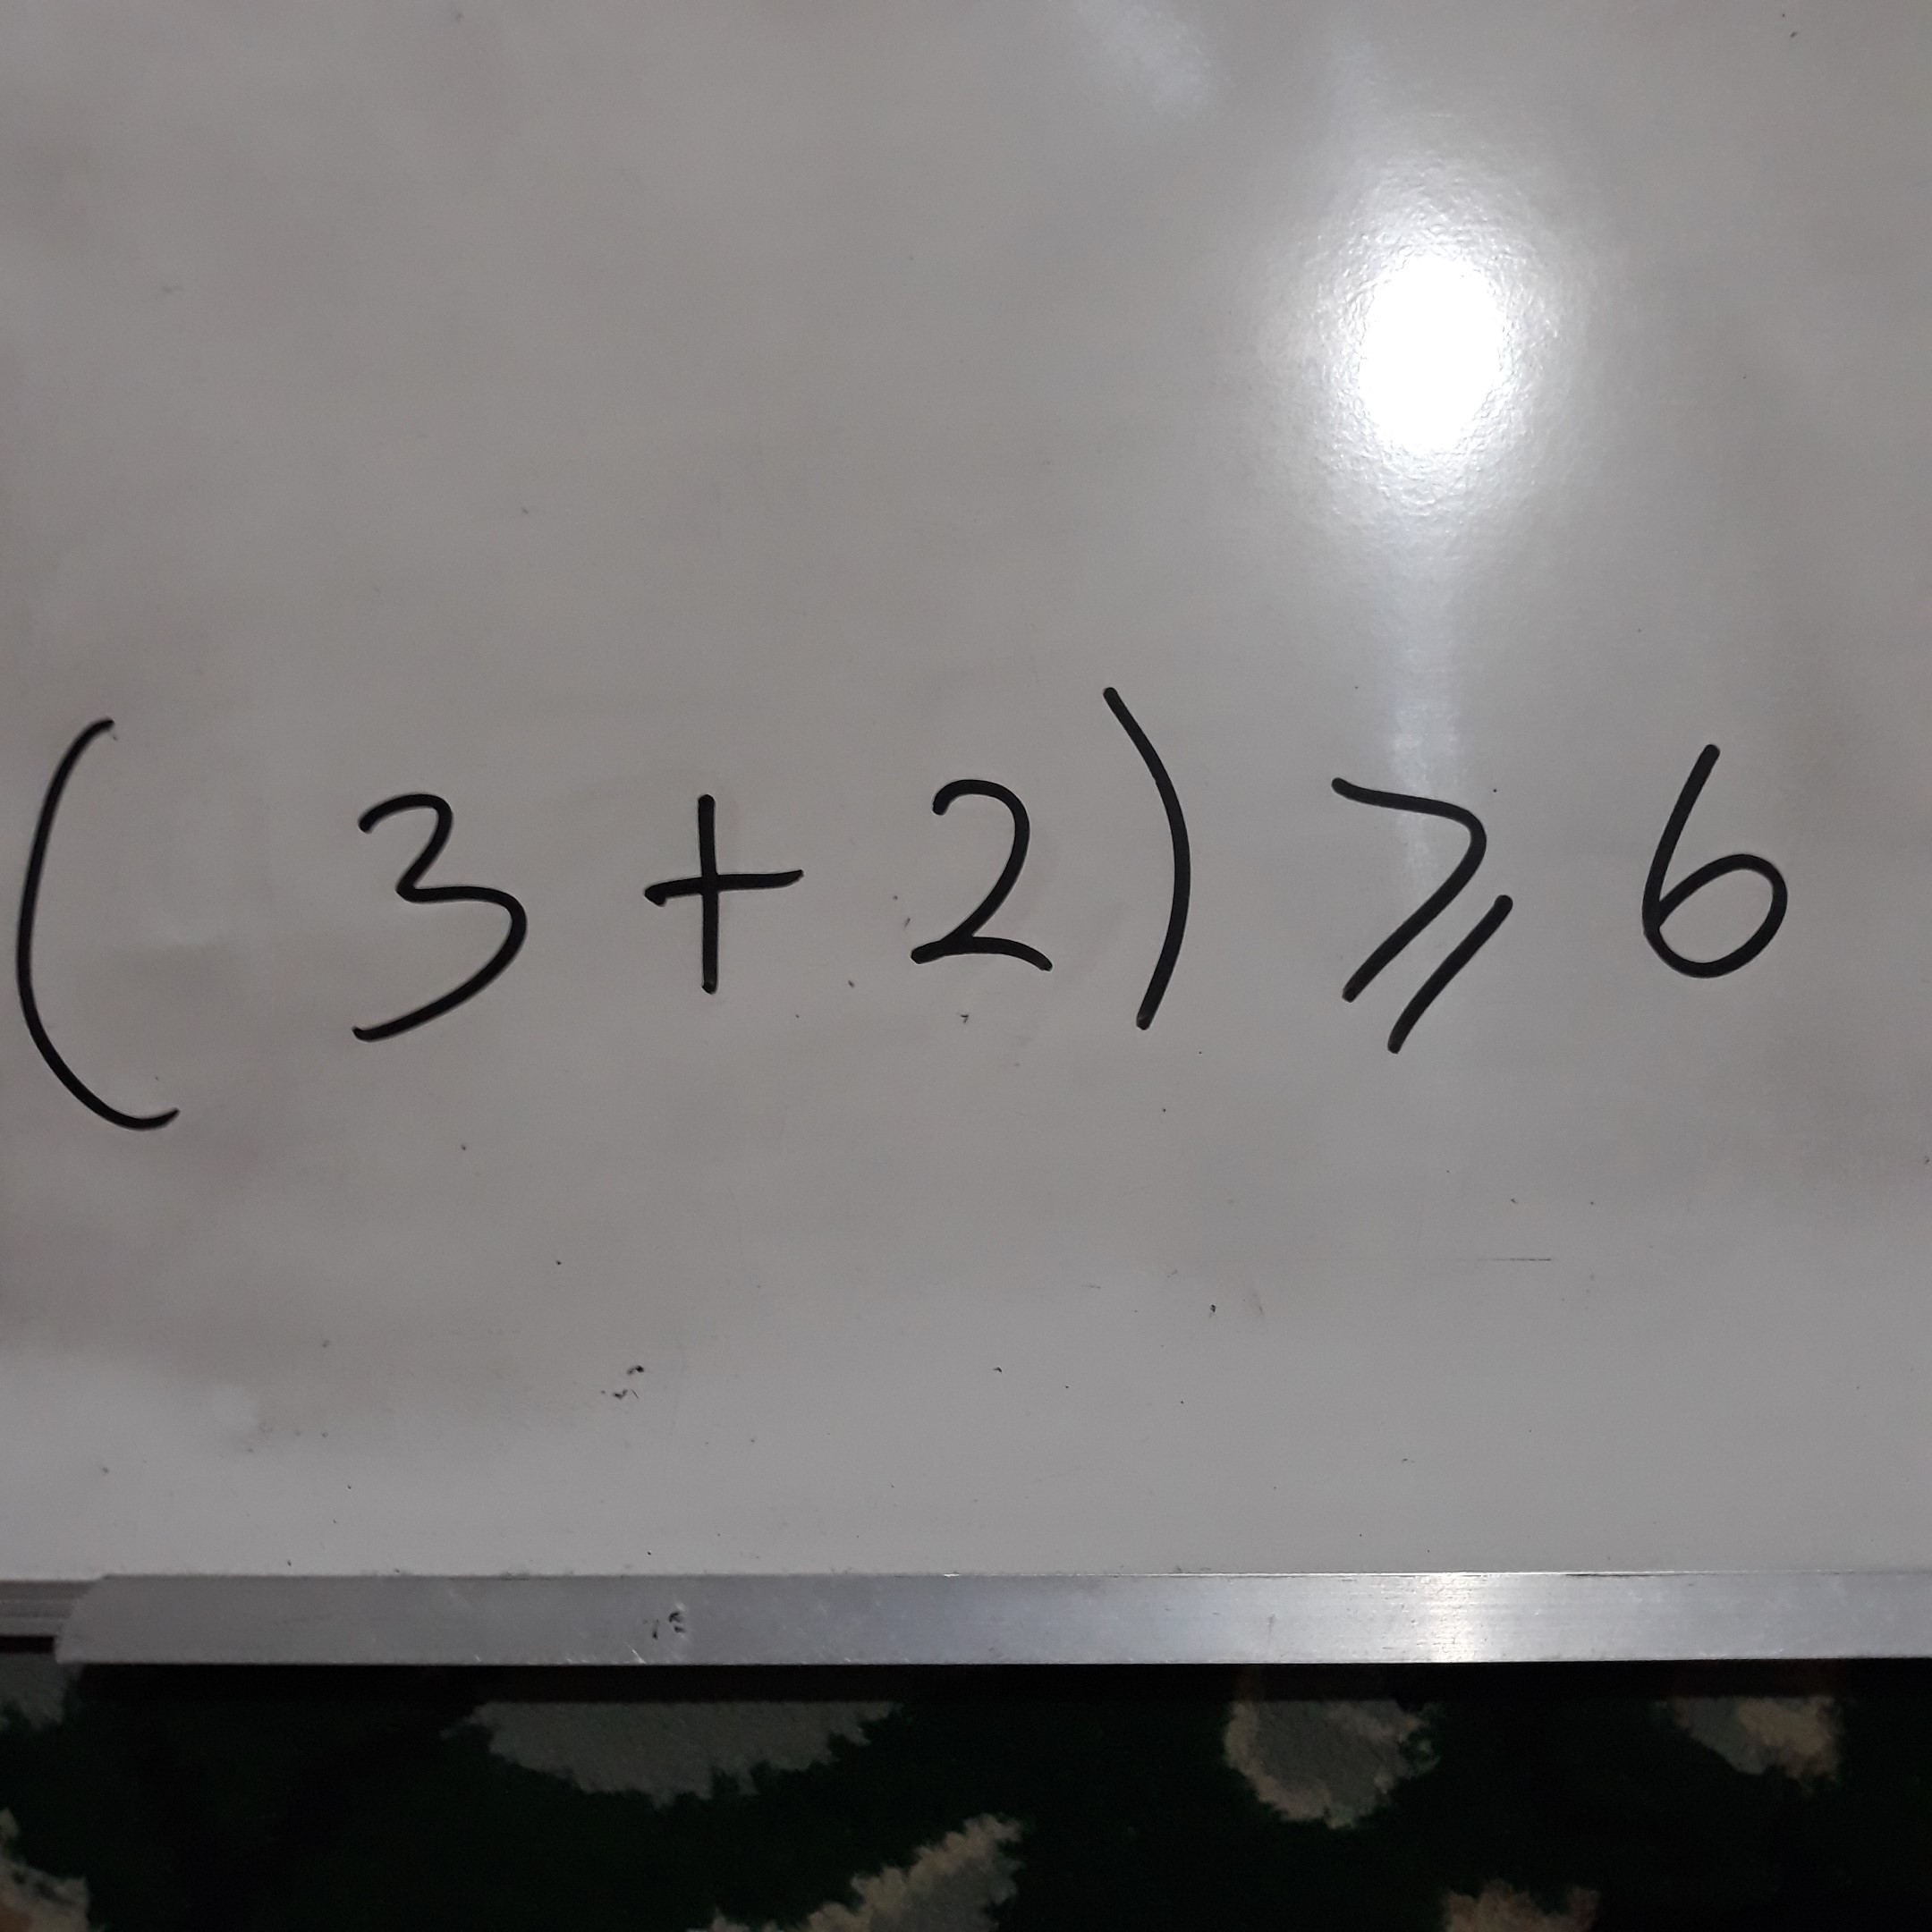closebracket: (1106, 622, 1233, 1074)
morethan-equal: (1300, 759, 1536, 1074)
num2: (883, 750, 1096, 1025)
num3: (328, 782, 541, 1057)
num6: (1611, 709, 1847, 1024)
openbracket: (2, 696, 220, 1150)
sum: (608, 763, 821, 1038)
